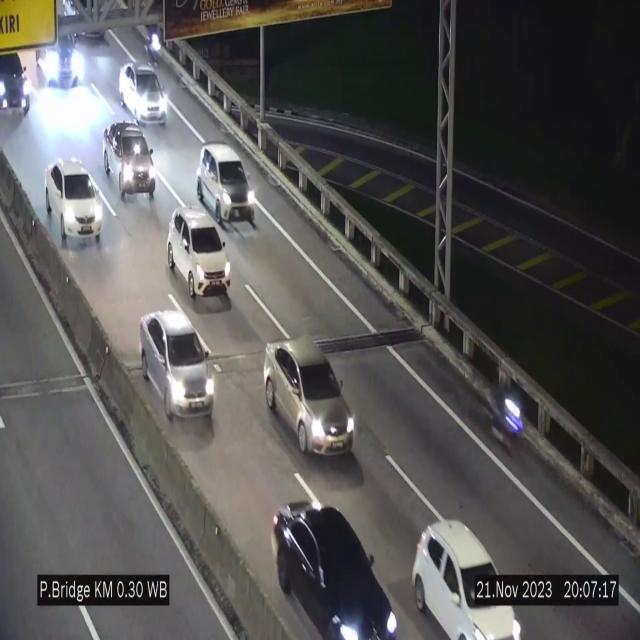Car: (270, 500, 400, 640), (417, 506, 523, 640), (264, 340, 356, 454), (140, 310, 213, 424), (168, 207, 232, 301), (38, 158, 106, 244), (99, 117, 159, 208), (196, 144, 252, 224), (32, 22, 84, 95), (120, 61, 168, 124), (0, 49, 36, 128)
Motorcycle: (488, 360, 524, 454)
